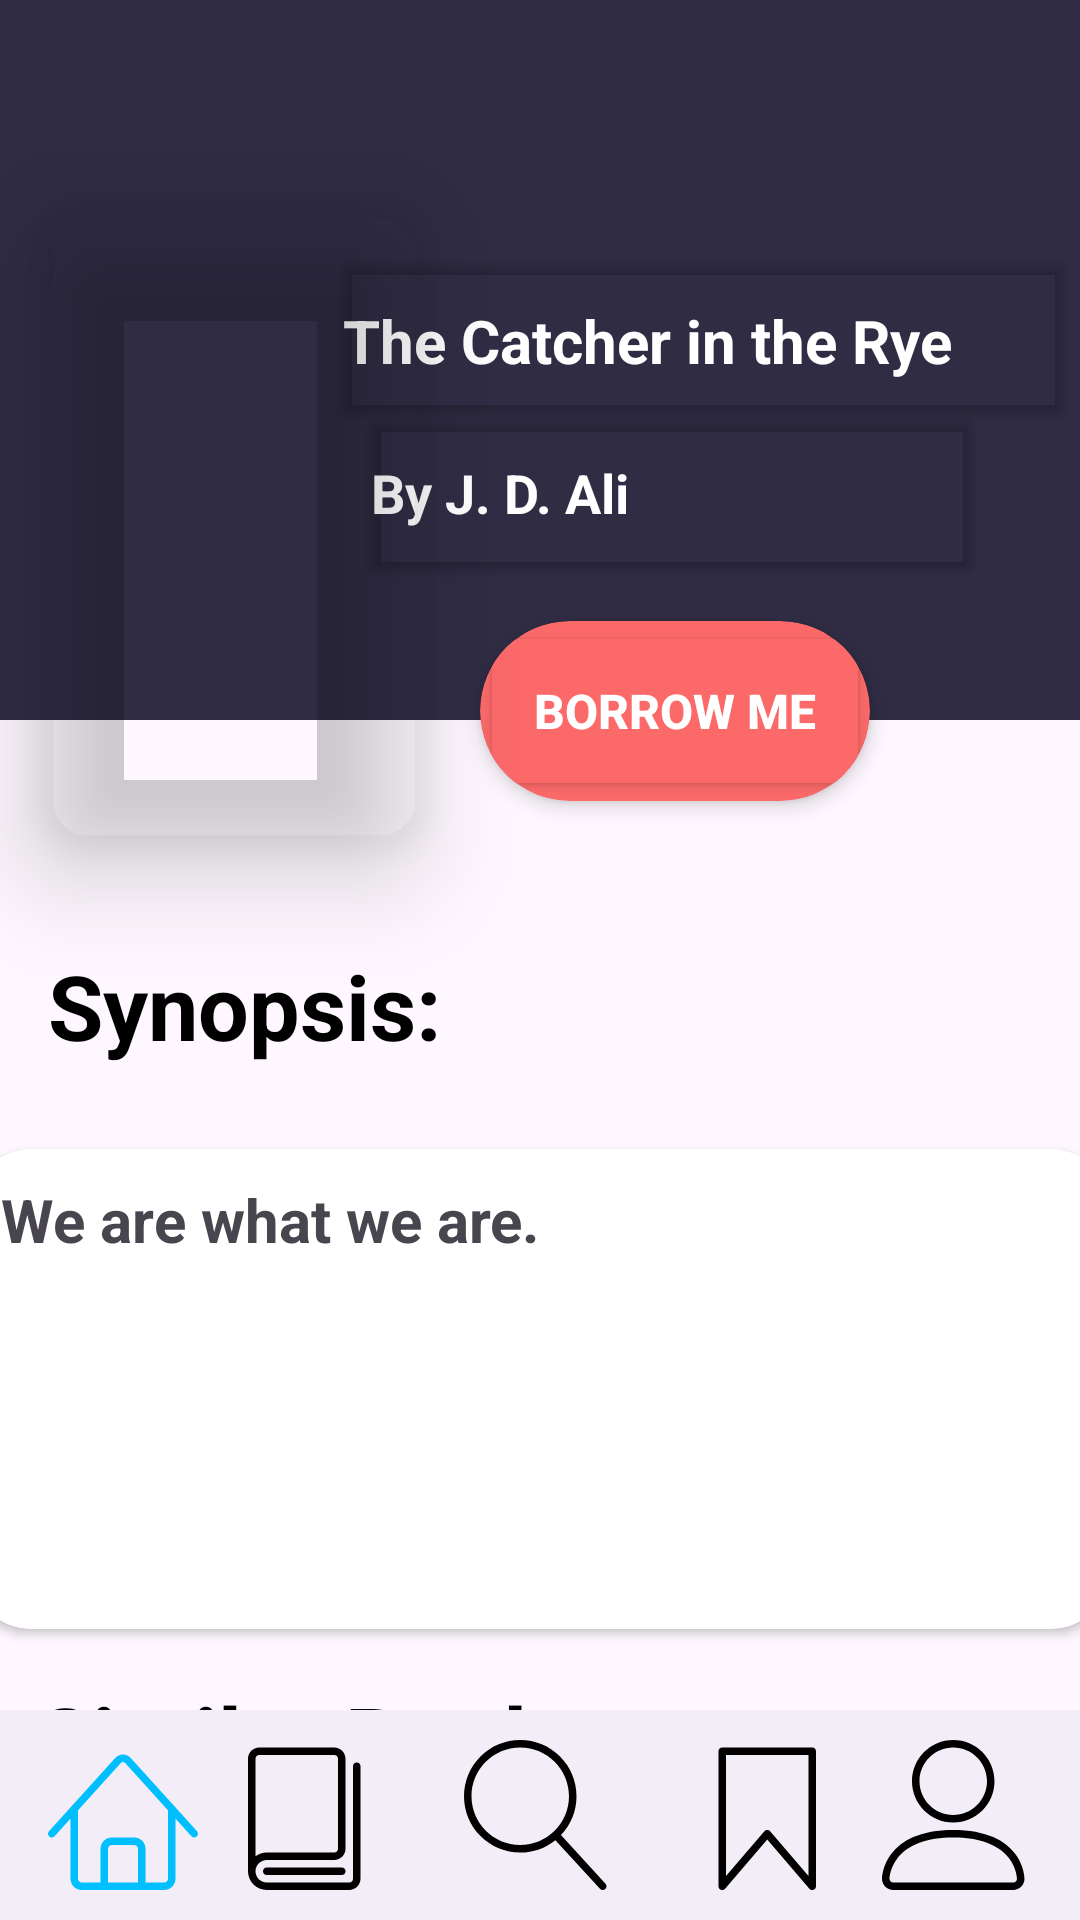

Screen size 1080w x 1920h. Icon name, then its box in pixels as [x1, y1, x2, y2]:
fav: [718, 1747, 816, 1890]
mag: [464, 1740, 607, 1890]
user: [882, 1740, 1025, 1890]
